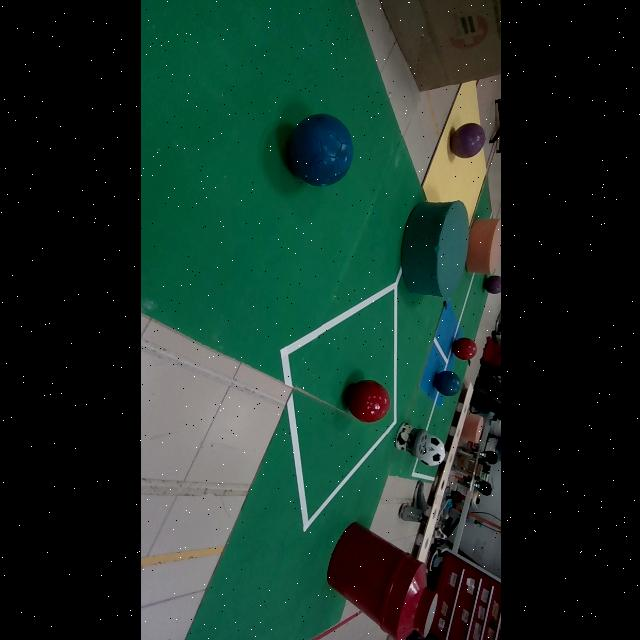B: (287, 114, 351, 186), (433, 371, 460, 397)
P: (450, 123, 485, 158), (483, 275, 500, 293)
R: (346, 380, 389, 422), (452, 337, 476, 361)
